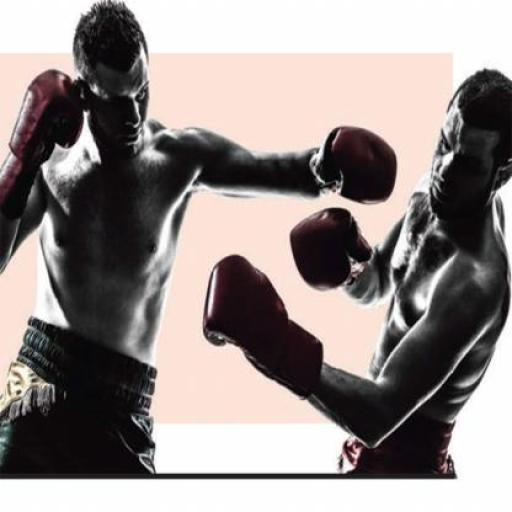Fighting: (1, 0, 511, 481)
